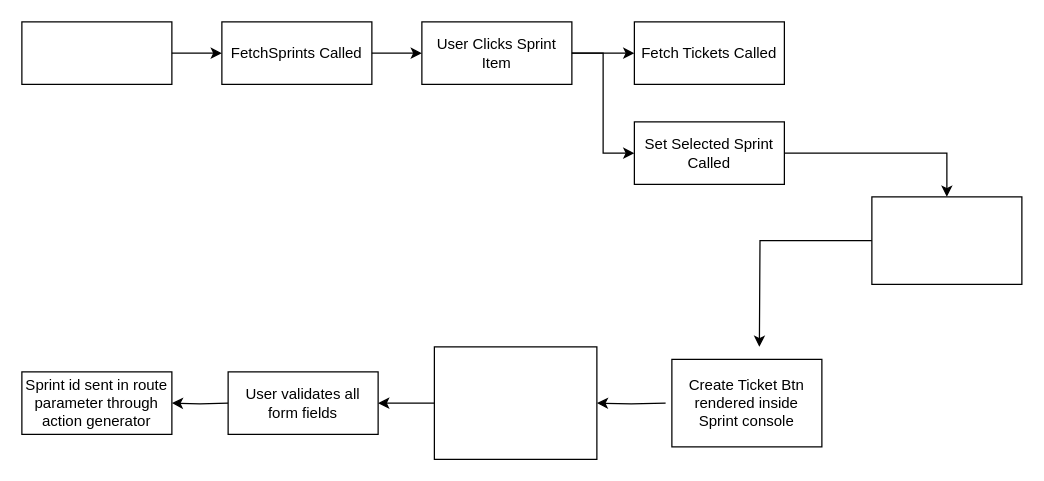
Image size: 1044x481. Some labels were removed from this diagram. The shapes that lost their labels are listed below. From the top down, each one's box as (x1, y1, x2, y2) in pixels, then its label:
(21, 21, 172, 84): Project Page Loads
(871, 196, 1022, 284): Sprint is sent to Sprint Que and Sprint Console components
(433, 346, 597, 459): SprintConsole passed sprint id to CreateTicket Form
